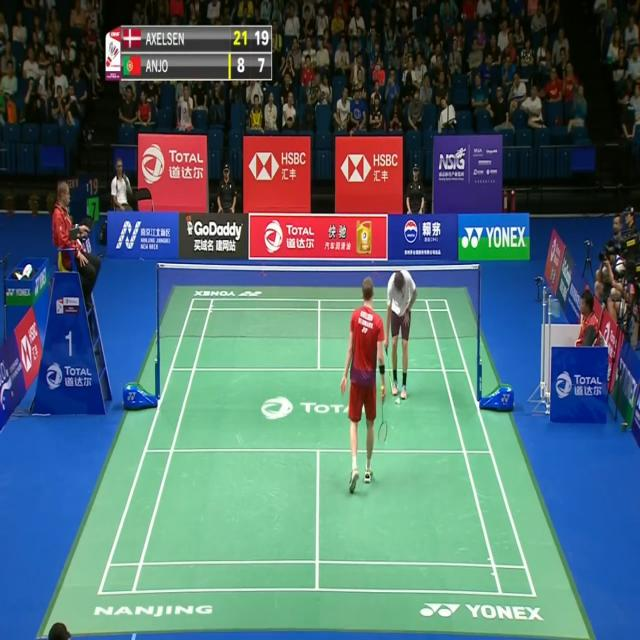Player1: (338, 270, 388, 502)
Player2: (384, 257, 421, 406)
